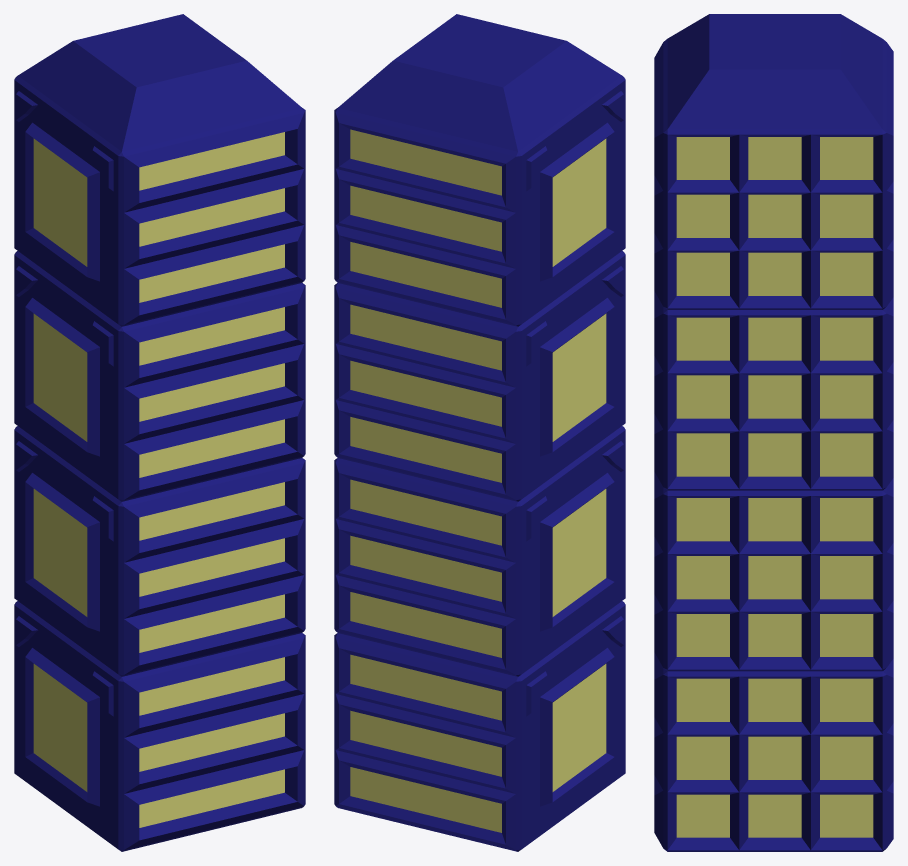
File: Building1.fbx
3 views of the same model, side by side, from view 1: azimuth 30°, elevation 25°; view 2: azimuth 150°, elevation 25°; view 3: azimuth 270°, elevation 25° (orthographic). The views are drawn at different scales.
Visible parts, largest first — view 1: Cube.005; view 2: Cube.005; view 3: Cube.005.
Boxes of the visible parts, left/top/right/bottom form: Cube.005: left=14, top=14, right=305, bottom=851; Cube.005: left=334, top=14, right=625, bottom=851; Cube.005: left=654, top=14, right=893, bottom=851.
Size of the model in its own units: 444 by 1592 by 452.
